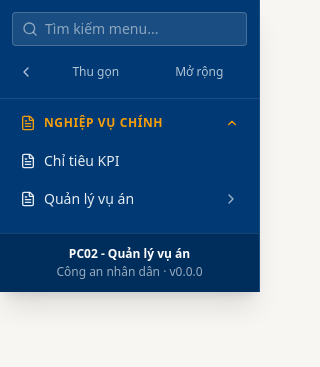
Test: Thanh bên: nhóm phải khai trạng thái đóng/mở › nhóm bên trong cũng khai aria-expanded và đổi theo lần bấm
Click the button with test id "sidebar-item-cases-group" at (130, 199), box [8,181,251,217]
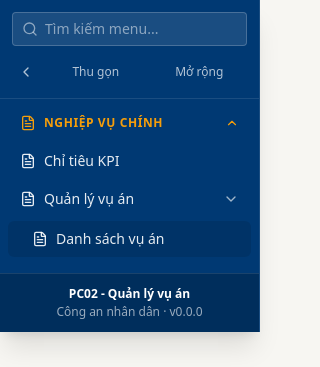
Check: the button with test id "sidebar-item-cases-group" is expanded, box [8,181,251,217]
